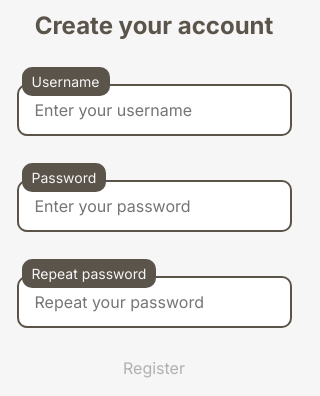
Scenario: Given a register component › When instantiated and the user types in › And the user types an already used username › Then it render the text 'Username already taken
Type "kkkkk" into the field labelled "Username" at x=154, y=110, box [16, 84, 292, 136]
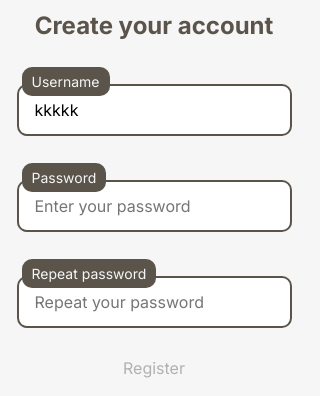
Type "kkkkk" into the password field labelled "Password" at x=154, y=206, box [16, 180, 292, 232]
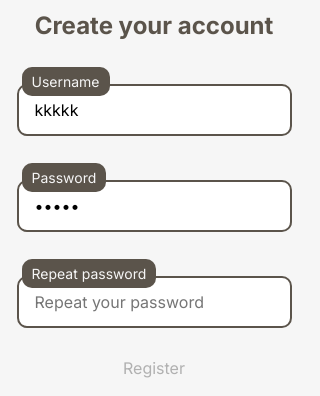
Type "kkkkk" into the password field with placeholder "Repeat your password" at x=154, y=302, box [16, 276, 292, 328]
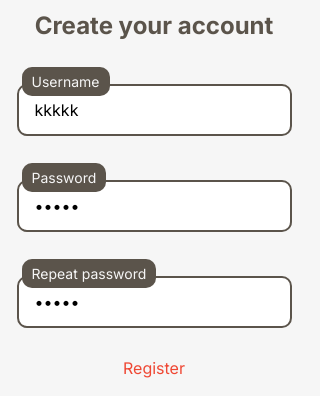
Click the button "Register" at x=154, y=368, box [123, 358, 185, 378]
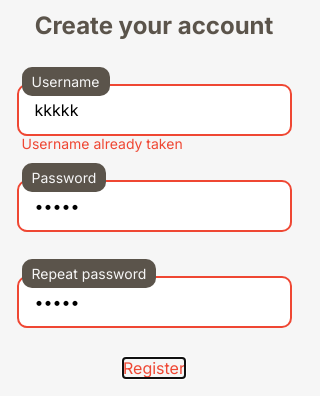
Check: the text "Username already taken" is shown, box [22, 135, 183, 152]
